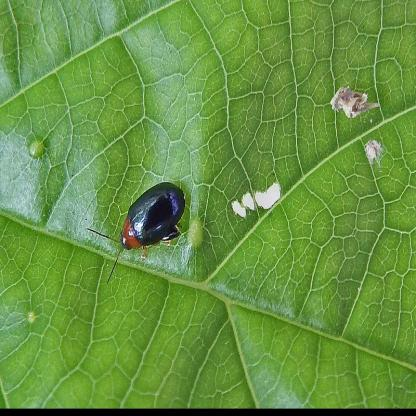beetle: (121, 176, 187, 263)
